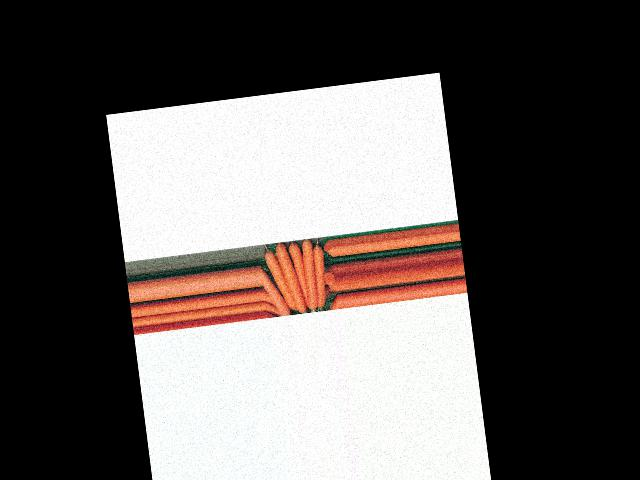carrot: (277, 238, 308, 314)
